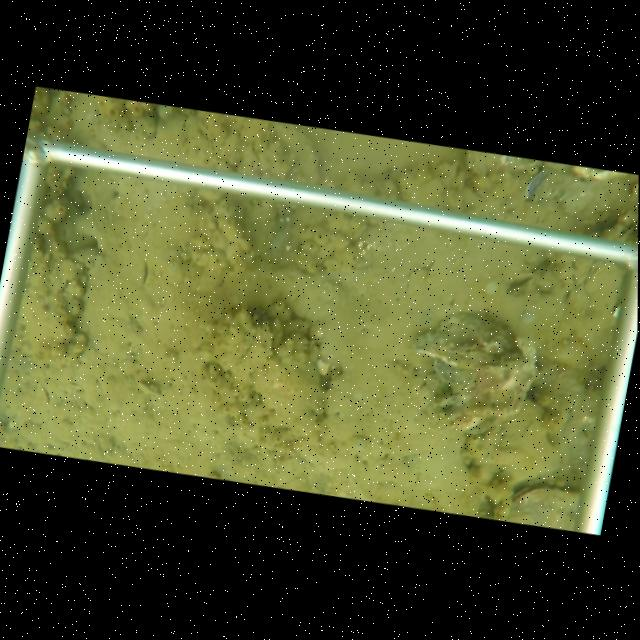Oyster-Closed: (25, 257, 90, 361), (505, 481, 574, 510)
Oyster-Indeterminate: (250, 336, 328, 450), (405, 307, 525, 373), (196, 308, 276, 377), (270, 122, 322, 185)
Oyster-Open: (499, 273, 531, 298), (609, 216, 638, 243)
